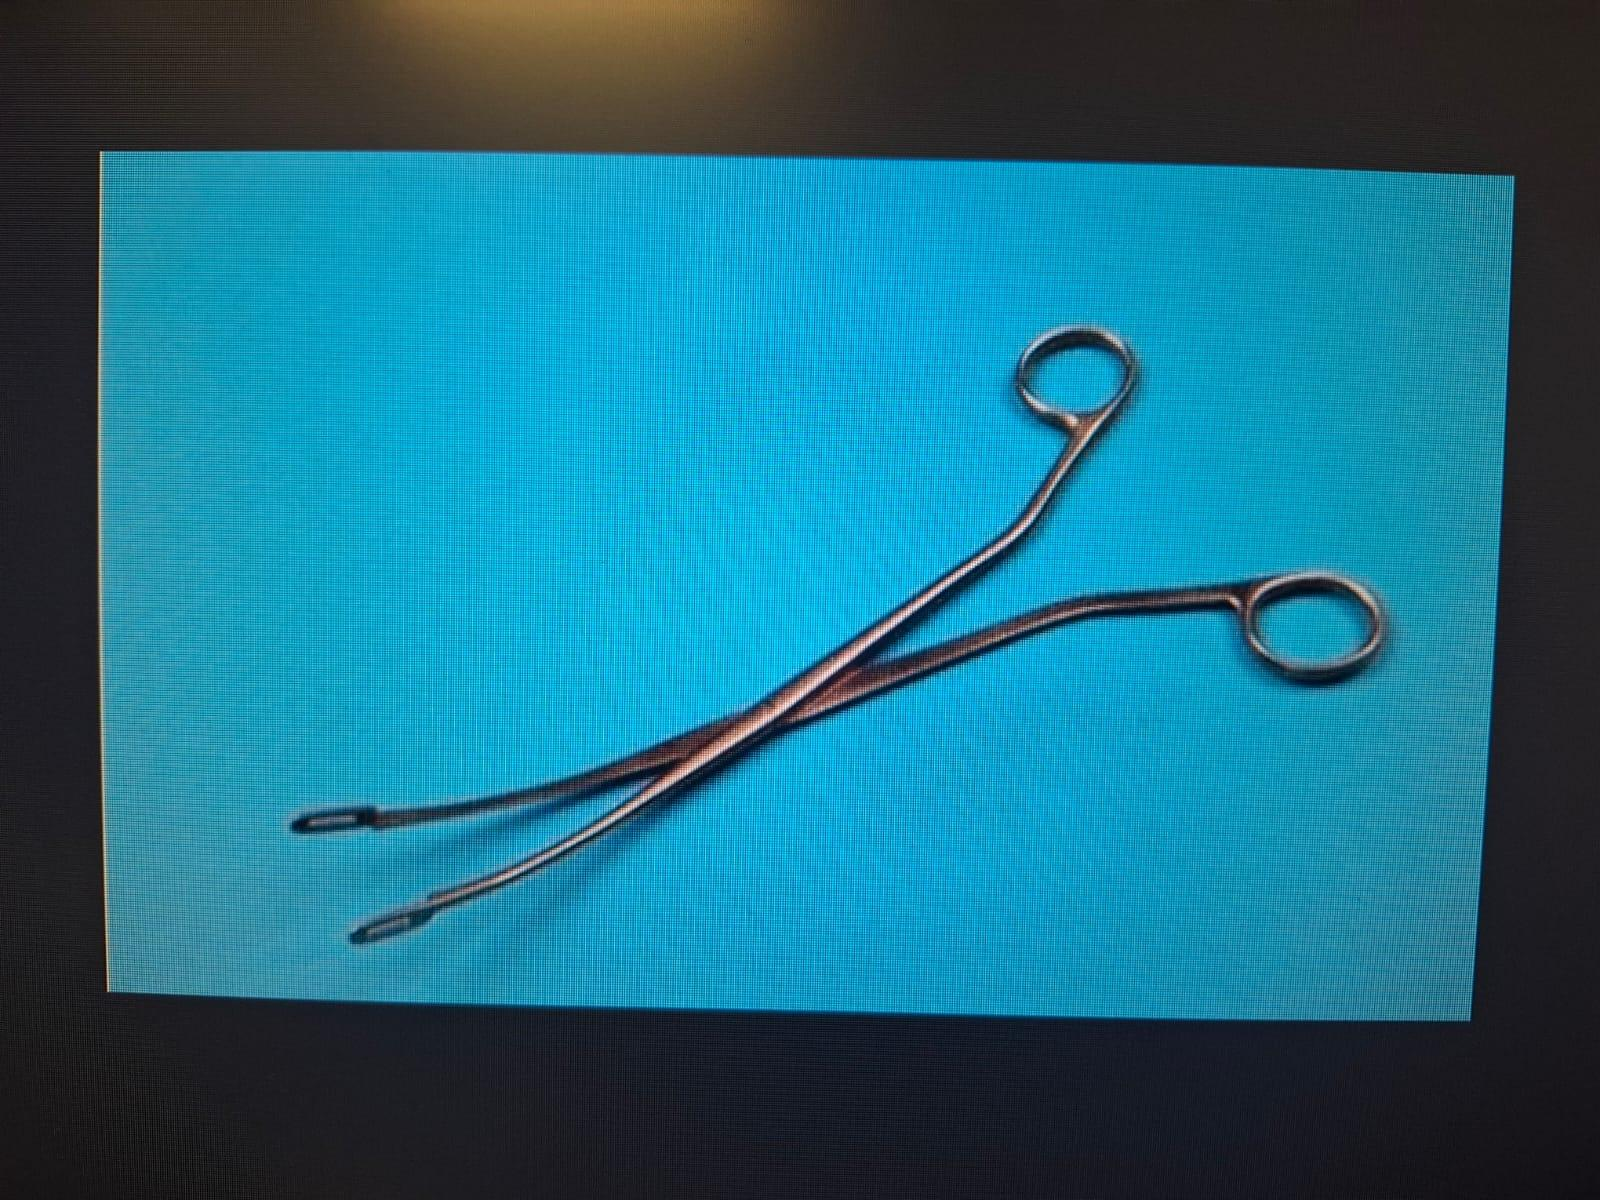Desjardin Forceps: (262, 296, 1410, 958)
